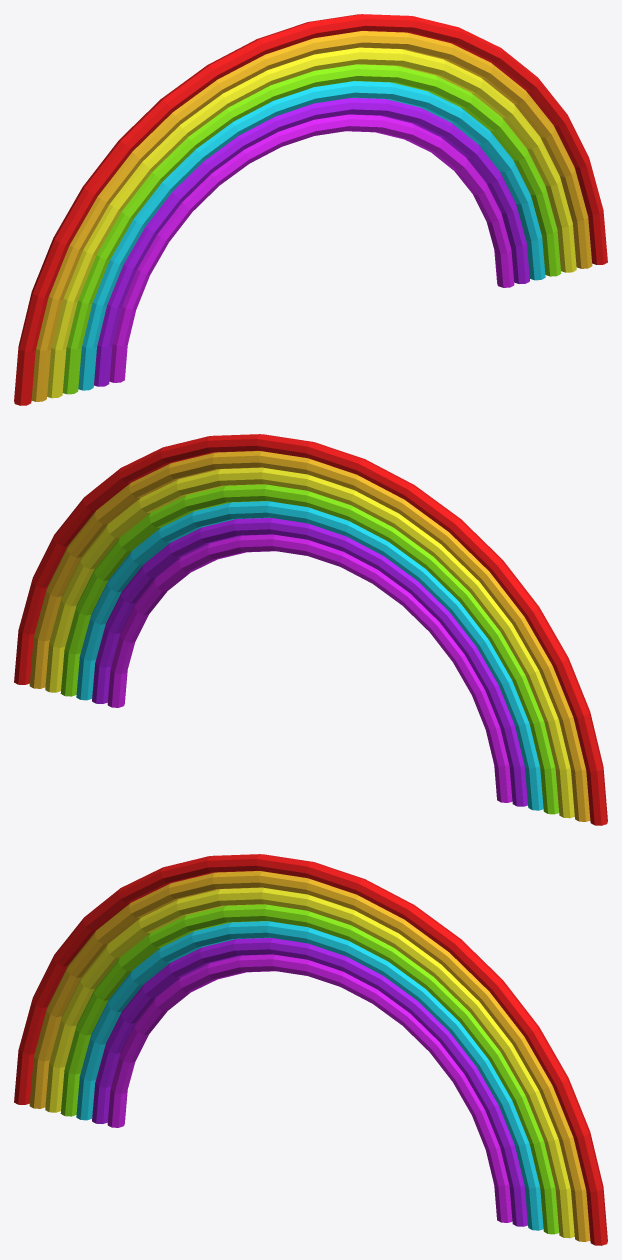
3 renders of one model, top to bottom at view 1: azimuth 30°, elevation 25°; view 2: azimuth 150°, elevation 25°; view 3: azimuth 330°, elevation 25°, orthographic.
Parts seen in each view (by area): view 1: Torus.6, Torus.5, Torus.4, Torus.3, Torus.2, Torus.1, Torus; view 2: Torus.6, Torus.5, Torus.4, Torus.3, Torus.2, Torus.1, Torus; view 3: Torus.6, Torus.5, Torus.4, Torus.3, Torus.2, Torus.1, Torus.
Part boxes in pixels (left/top/right/bottom): Torus.6: left=14, top=14, right=607, bottom=405; Torus.5: left=31, top=31, right=592, bottom=401; Torus.4: left=47, top=47, right=576, bottom=398; Torus.3: left=62, top=64, right=561, bottom=394; Torus.2: left=78, top=81, right=545, bottom=390; Torus.1: left=94, top=98, right=529, bottom=386; Torus: left=109, top=114, right=514, bottom=382; Torus.6: left=14, top=434, right=607, bottom=825; Torus.5: left=29, top=451, right=590, bottom=821; Torus.4: left=45, top=467, right=574, bottom=818; Torus.3: left=60, top=484, right=559, bottom=814; Torus.2: left=76, top=501, right=543, bottom=810; Torus.1: left=92, top=518, right=527, bottom=806; Torus: left=107, top=534, right=512, bottom=802; Torus.6: left=14, top=854, right=607, bottom=1245; Torus.5: left=29, top=871, right=590, bottom=1241; Torus.4: left=45, top=887, right=574, bottom=1238; Torus.3: left=60, top=904, right=559, bottom=1234; Torus.2: left=76, top=921, right=543, bottom=1230; Torus.1: left=92, top=938, right=527, bottom=1226; Torus: left=107, top=954, right=512, bottom=1222.
Bounding box in the file's own units: 389 × 195 × 10.24.
